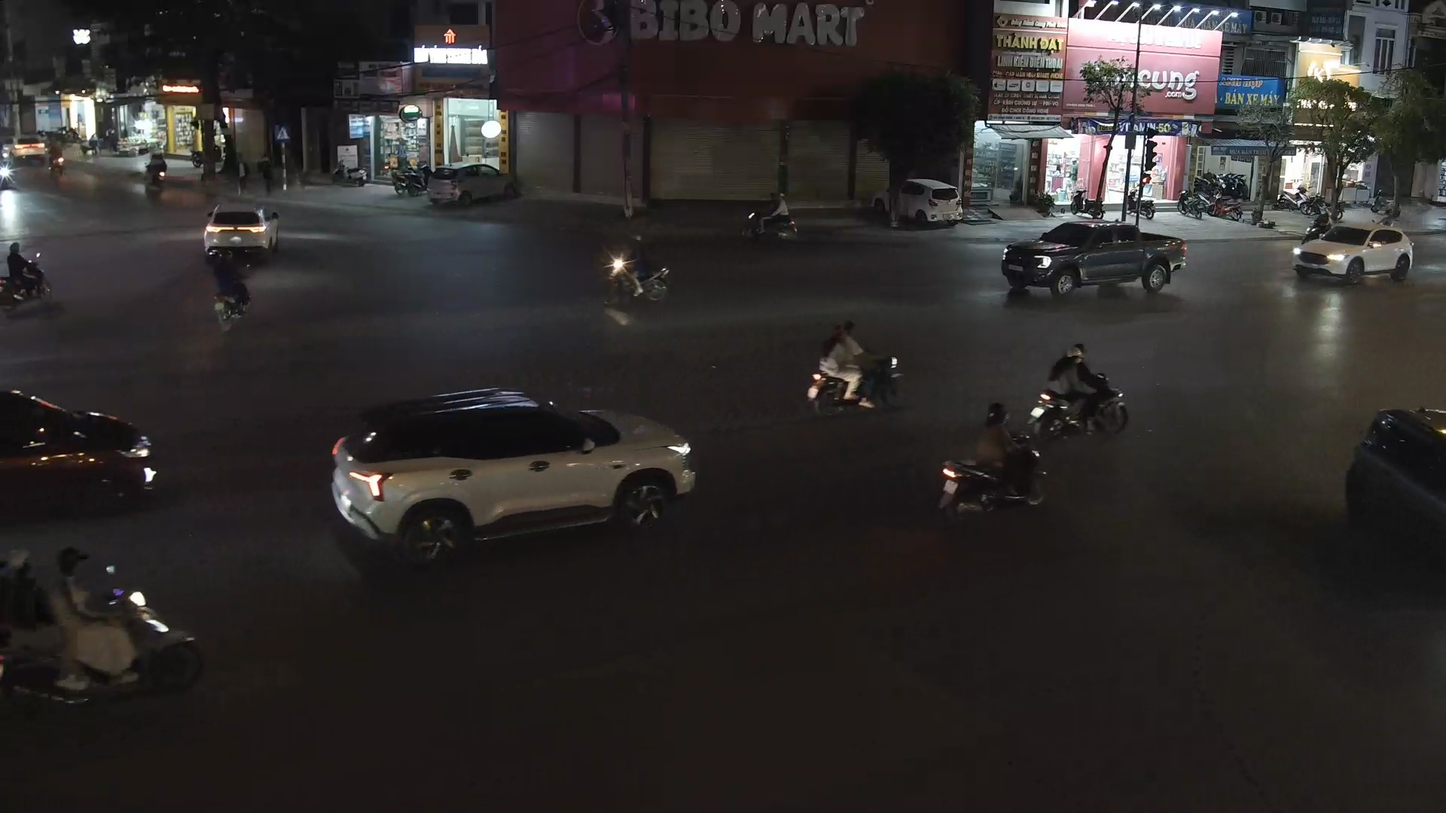car: (331, 387, 700, 558), (0, 384, 158, 518), (1342, 404, 1445, 576), (999, 218, 1186, 298), (1291, 223, 1416, 287), (202, 198, 282, 262)
motorbike: (0, 541, 207, 718), (935, 399, 1052, 522), (1027, 340, 1131, 442), (804, 318, 903, 419), (604, 233, 674, 305), (0, 237, 57, 313), (210, 243, 255, 332)
